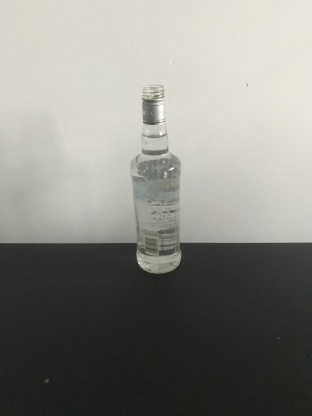nakretka: (140, 84, 167, 125)
